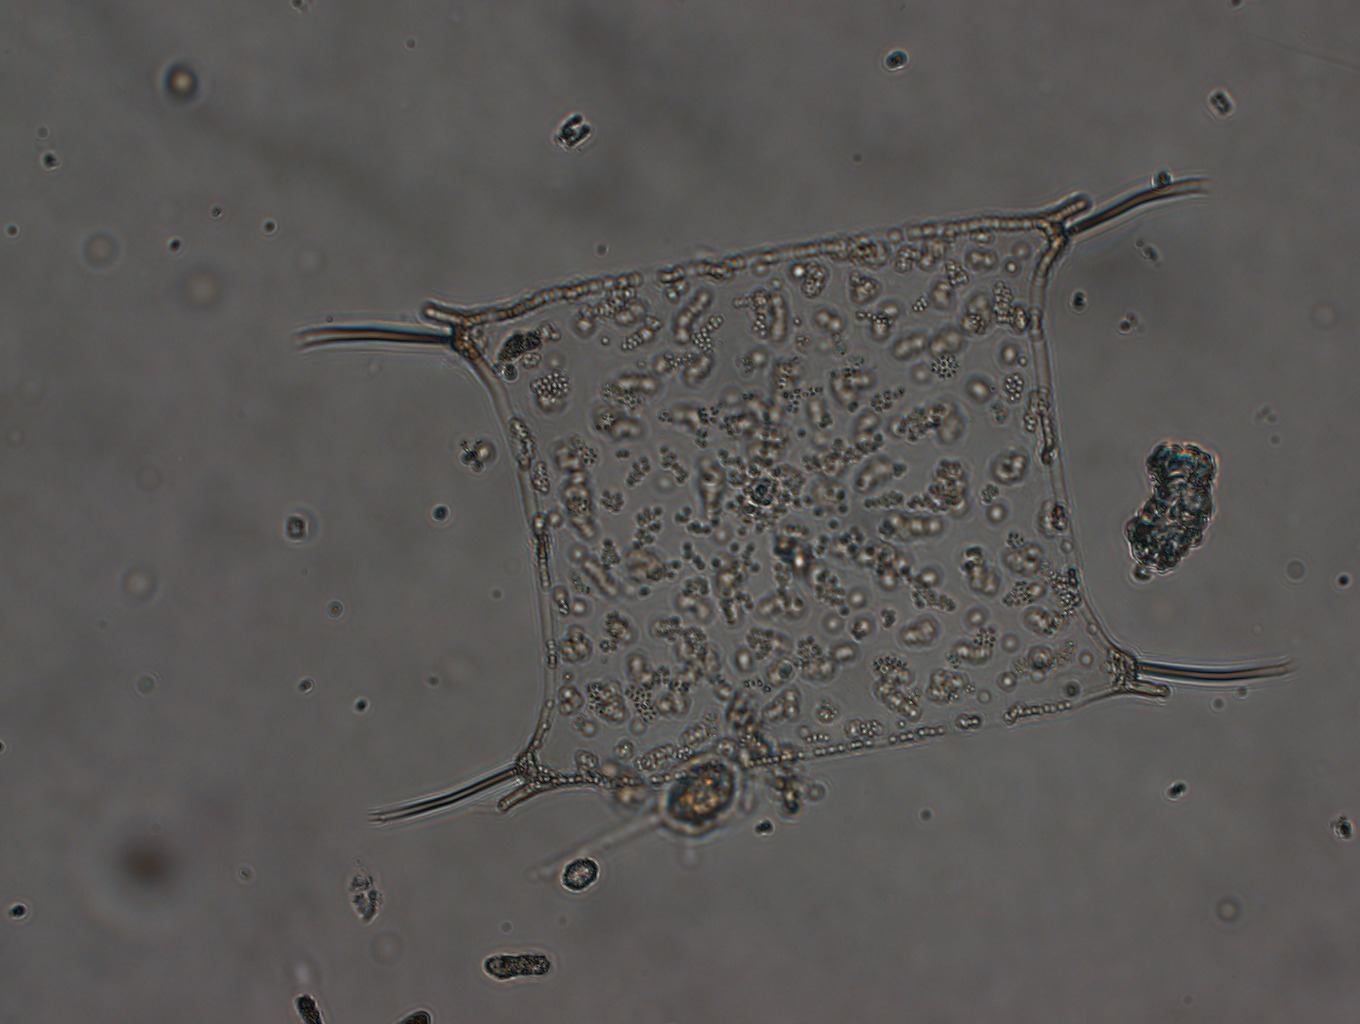biddulphia: (281, 162, 1311, 826)
